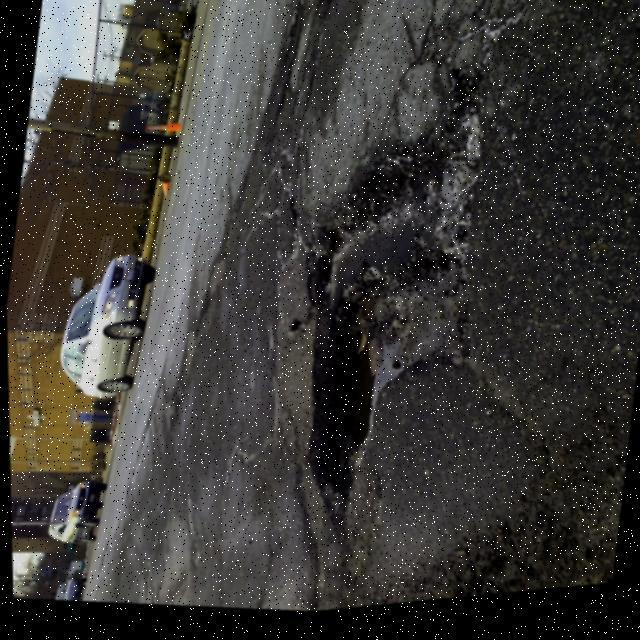pothole: (260, 90, 510, 520)
